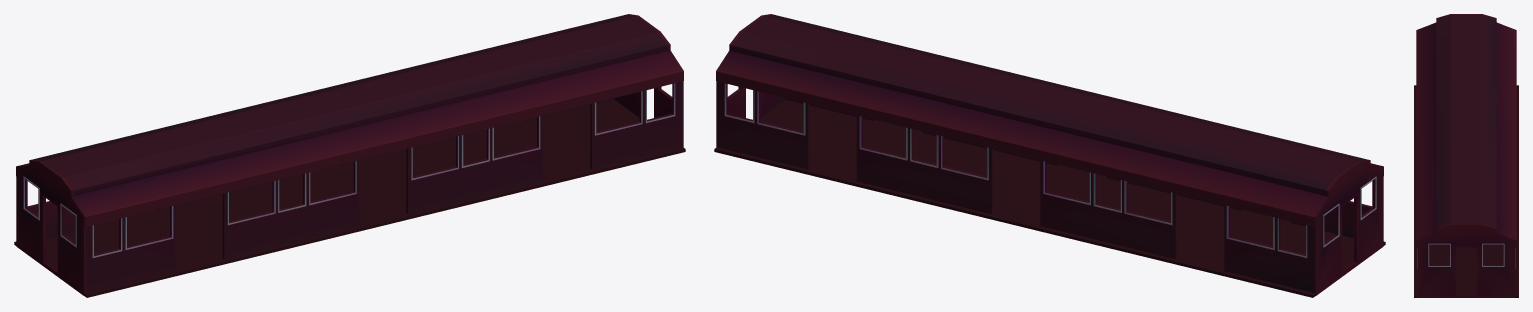
3 views of the same model, side by side, from view 1: azimuth 30°, elevation 25°; view 2: azimuth 150°, elevation 25°; view 3: azimuth 270°, elevation 25° (orthographic). The views are drawn at different scales.
Parts seen in each view (by area): view 1: roof_skin, floor, wall.001, end_panel.001, wall, end_panel; view 2: roof_skin, floor, wall, end_panel.001, wall.001, end_panel; view 3: roof_skin, end_panel, floor, end_frame, end_frame.001.
Boxes of the visible parts, <box> form: roof_skin: <box>16,14,683,226</box>; floor: <box>14,99,685,297</box>; wall.001: <box>87,82,680,292</box>; end_panel.001: <box>16,159,86,295</box>; wall: <box>27,98,614,238</box>; end_panel: <box>614,14,683,147</box>; roof_skin: <box>716,14,1383,226</box>; floor: <box>714,99,1385,297</box>; wall: <box>719,82,1312,292</box>; end_panel.001: <box>1313,159,1383,295</box>; wall.001: <box>785,98,1372,238</box>; end_panel: <box>716,14,785,147</box>; roof_skin: <box>1416,15,1516,247</box>; end_panel: <box>1417,223,1515,297</box>; floor: <box>1414,85,1518,297</box>; end_frame: <box>1428,243,1450,266</box>; end_frame.001: <box>1482,243,1504,266</box>.
Size of the model in its own units: 19.95 by 3.23 by 4.19.
